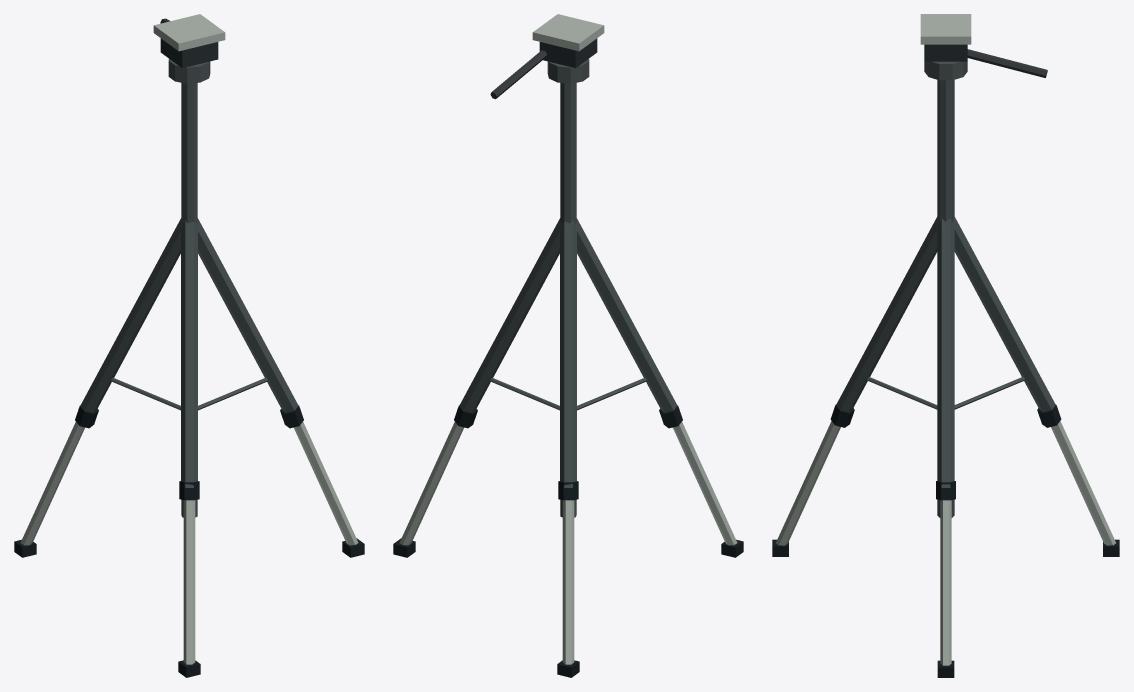
File: blender_tripod_2.glb
3 renders of one model, left to right at view 1: azimuth 30°, elevation 25°; view 2: azimuth 150°, elevation 25°; view 3: azimuth 270°, elevation 25°, orthographic.
Parts seen in each view (by area): view 1: blender_tripod_2; view 2: blender_tripod_2; view 3: blender_tripod_2.
Boxes of the visible parts, bbox=[...] form: blender_tripod_2: bbox=[14, 14, 364, 677]; blender_tripod_2: bbox=[393, 14, 743, 677]; blender_tripod_2: bbox=[772, 14, 1119, 677].
Size of the model in its own units: 0.4205 by 0.871 by 0.482.
1 material, 1 textured.
